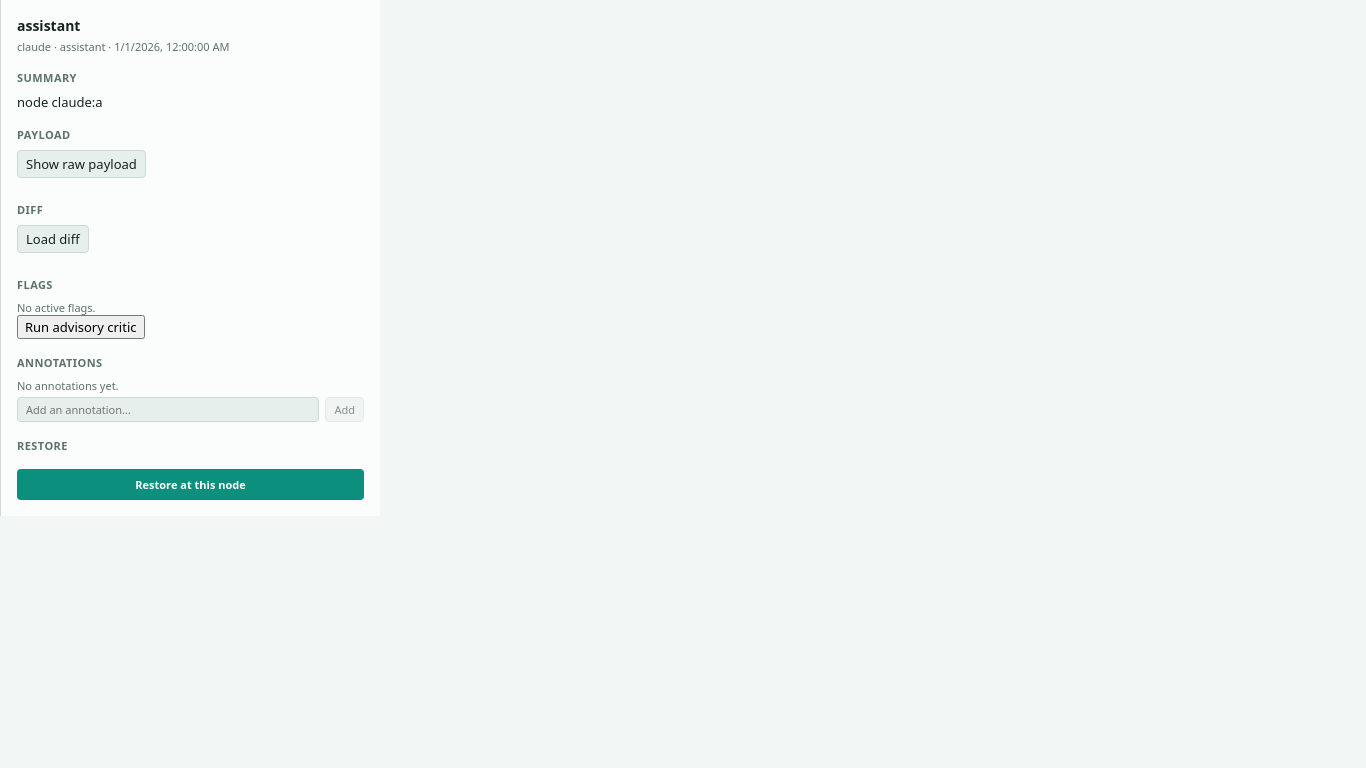
Test case: HarvestFlow / preflight › labels mainlineDirty as 'moved on the files this harvest touches', not 'tree is dirty'
Click the button "Restore at this node".
click(190, 484)  # box [17, 469, 364, 500]
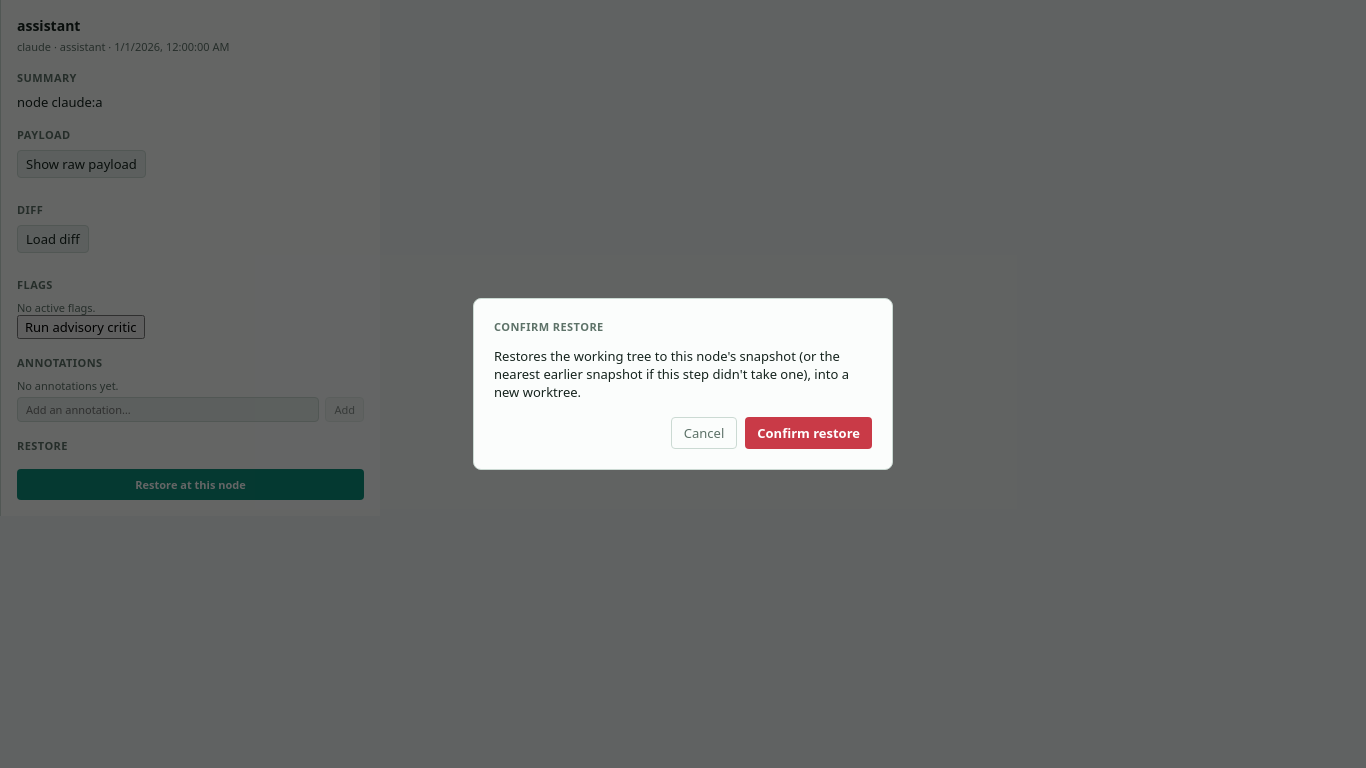
Check: the dialog is shown
Click the button "Confirm restore".
click(809, 433)  # box [745, 417, 872, 449]
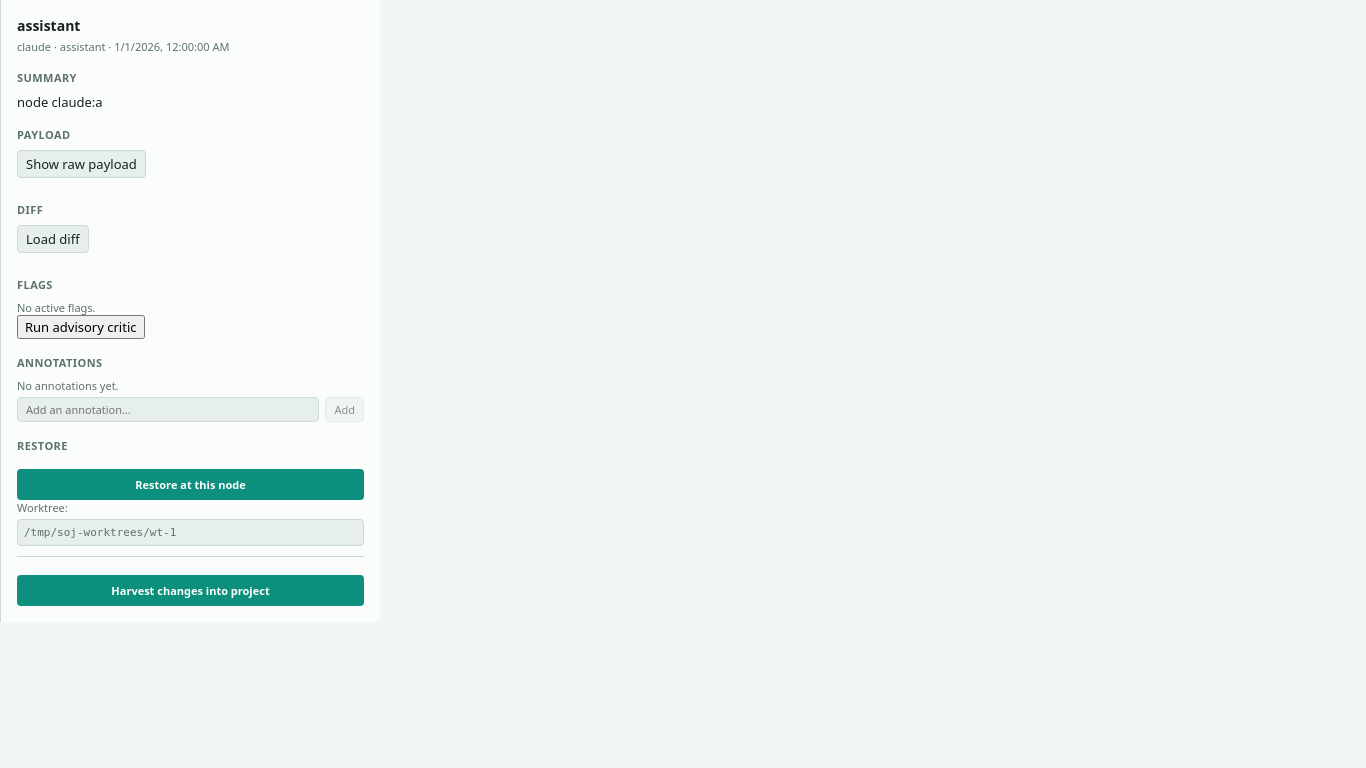
Check: the element with test id "harvest-flow" is shown, box [17, 556, 364, 606]
Click the button "Harvest changes into project".
click(190, 590)  # box [17, 575, 364, 606]
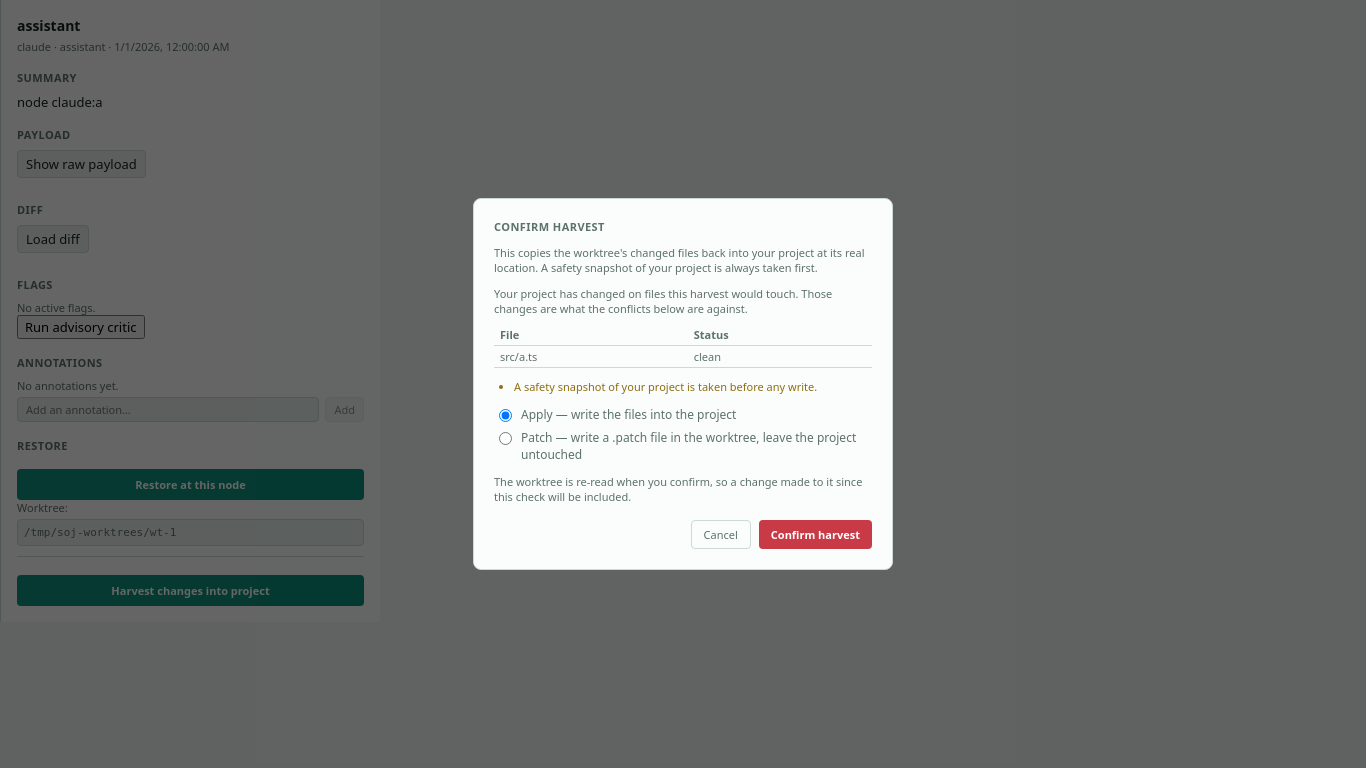
Check: the table with test id "harvest-files" is shown, box [494, 324, 872, 368]
Check: the text with test id "harvest-mainline-dirty" shows "files this harvest would touch", box [494, 286, 832, 316]
